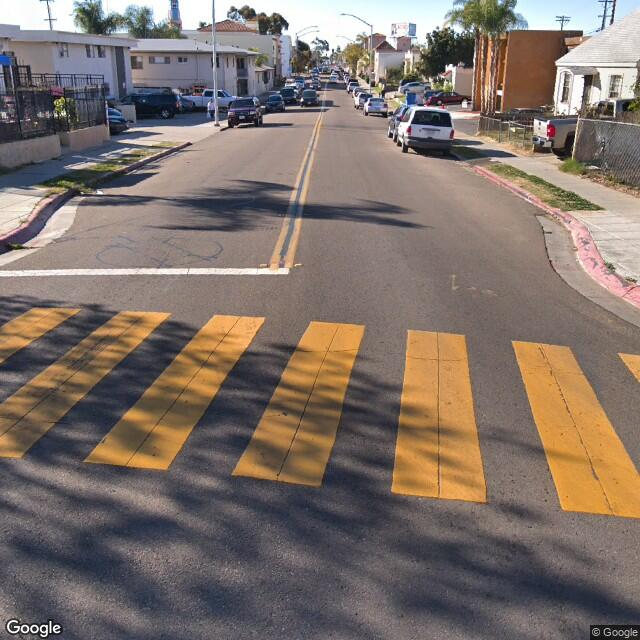road line: (250, 173, 308, 282)
